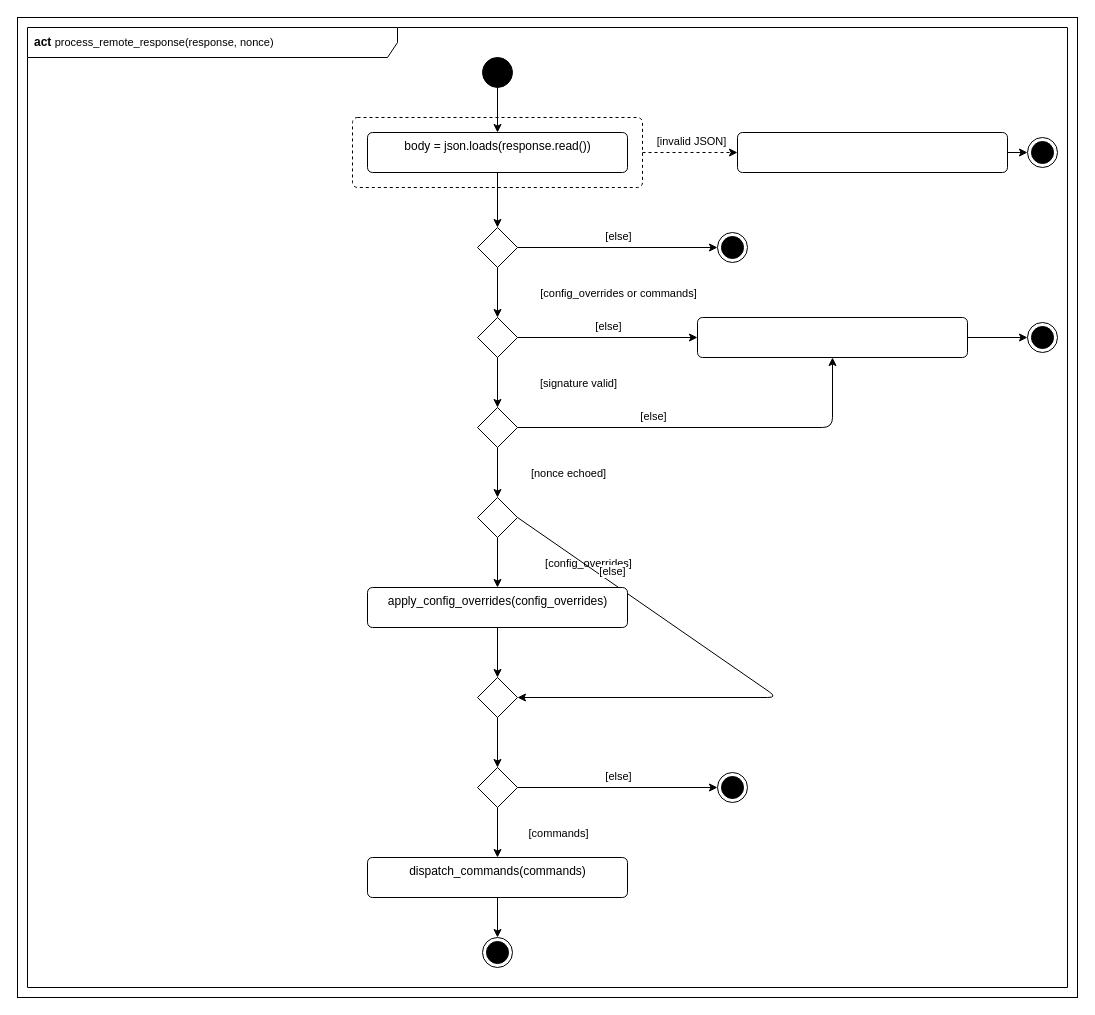
Some shapes in this 1095 by 1015 pixel diagram are drawn without their labels. Each missing label, with the centre of its shape:
log error, discard the response: (832,337)
log warning, ignore the response: (872,152)
